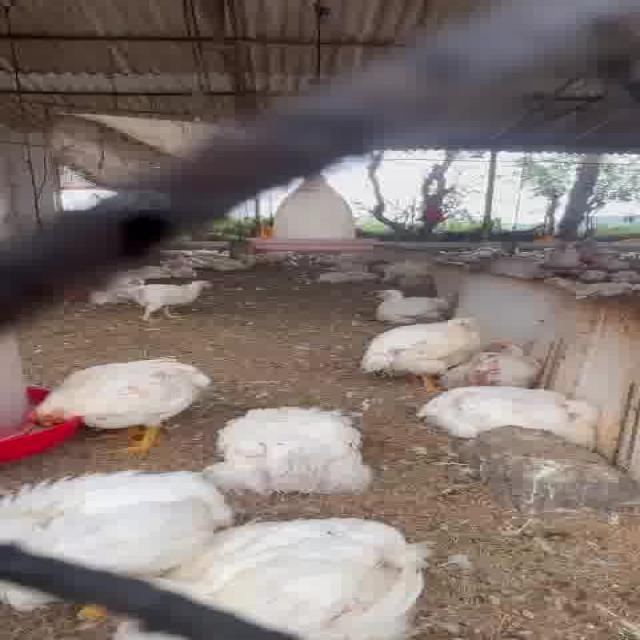AbNormal: (124, 510, 462, 640), (5, 465, 246, 578), (203, 398, 381, 498), (408, 380, 610, 448), (422, 343, 562, 396), (360, 282, 462, 332)
Normal: (27, 350, 228, 452), (370, 312, 502, 373), (126, 268, 221, 318)
